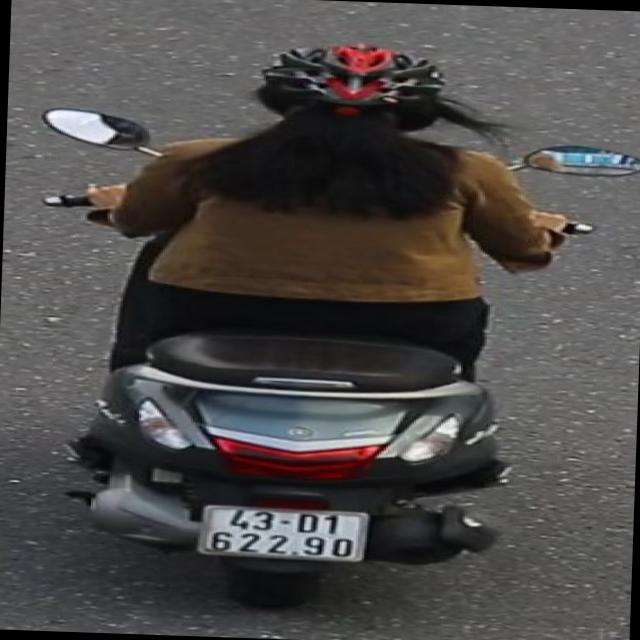LP: (190, 502, 376, 570)
helmet: (243, 34, 456, 138)
